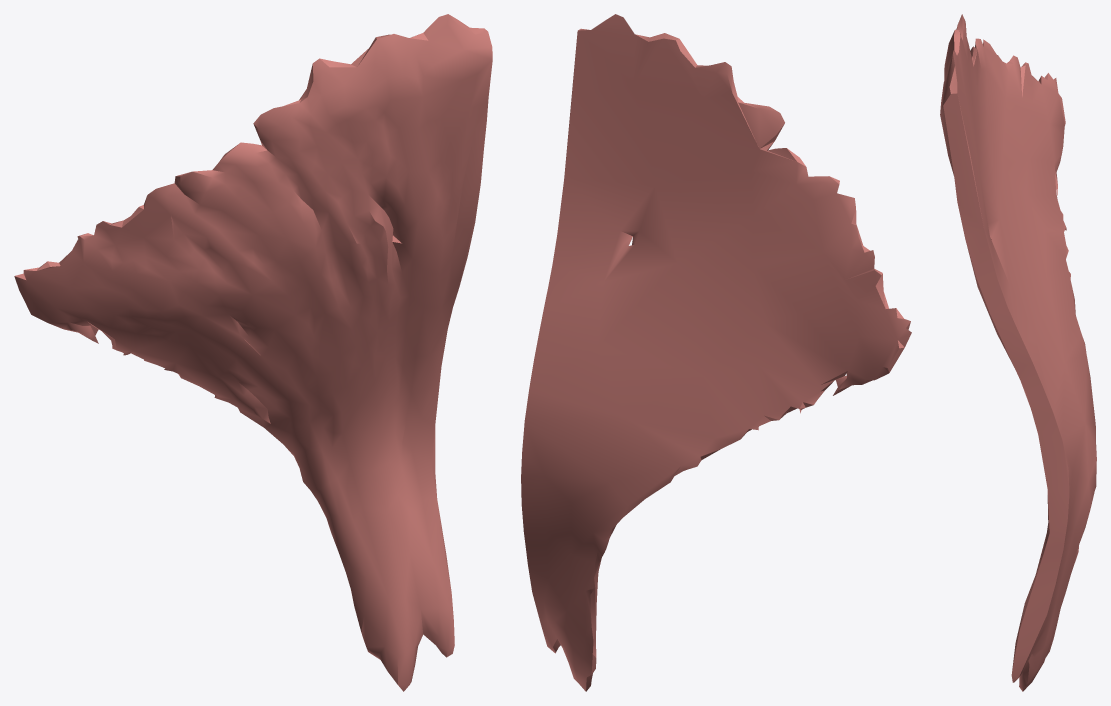
File: fma55610_mm1086m.glb
3 renders of one model, left to right at view 1: azimuth 30°, elevation 25°; view 2: azimuth 150°, elevation 25°; view 3: azimuth 270°, elevation 25°, orthographic. The views are drawn at different scales.
Visible parts, largest first — view 1: FMA55610_MM1086M; view 2: FMA55610_MM1086M; view 3: FMA55610_MM1086M.
Boxes of the visible parts, <box> form: FMA55610_MM1086M: <box>14,14,492,691</box>; FMA55610_MM1086M: <box>521,14,911,691</box>; FMA55610_MM1086M: <box>940,14,1096,691</box>.
Size of the model in its own units: 0.0231 by 0.0373 by 0.00826.
